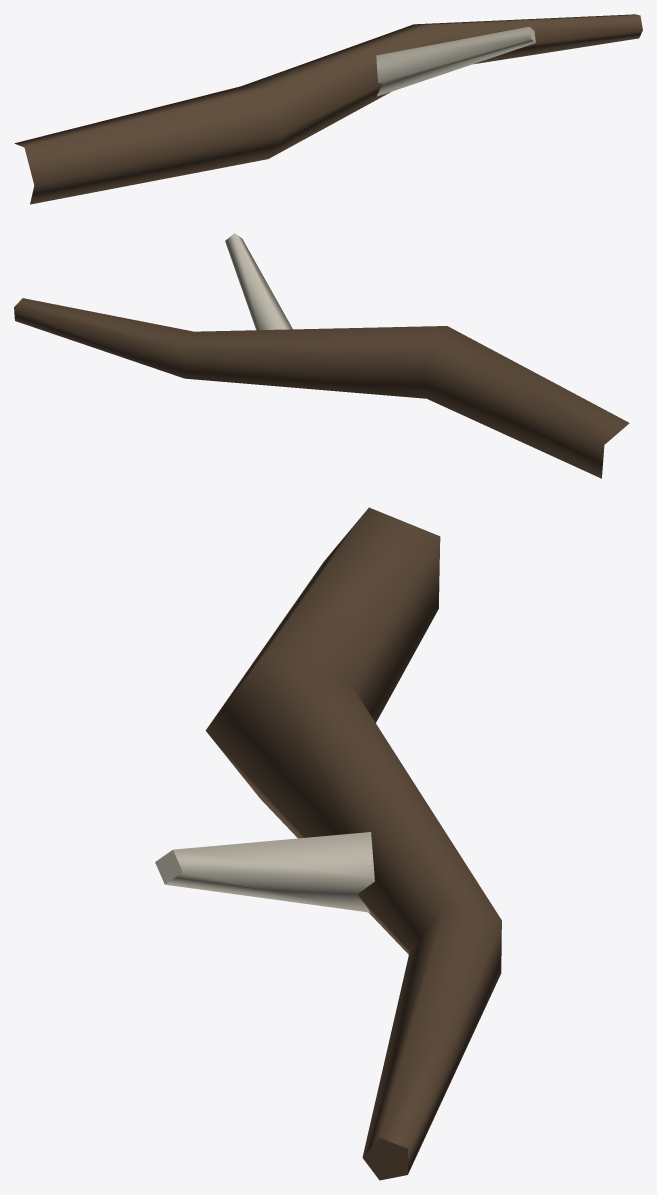
The model's file is land-forest-27.glb.
3 views of the same model, one above another, from view 1: azimuth 30°, elevation 25°; view 2: azimuth 150°, elevation 25°; view 3: azimuth 270°, elevation 25° (orthographic). The views are drawn at different scales.
Visible parts, largest first — view 1: land.forest.27; view 2: land.forest.27; view 3: land.forest.27.
Part boxes in pixels (box(x1,y1,x2,y2)): land.forest.27: box(14, 14, 642, 204); land.forest.27: box(14, 233, 629, 478); land.forest.27: box(155, 507, 501, 1180).
Size of the model in its own units: 2.38 by 0.3824 by 0.5893.
